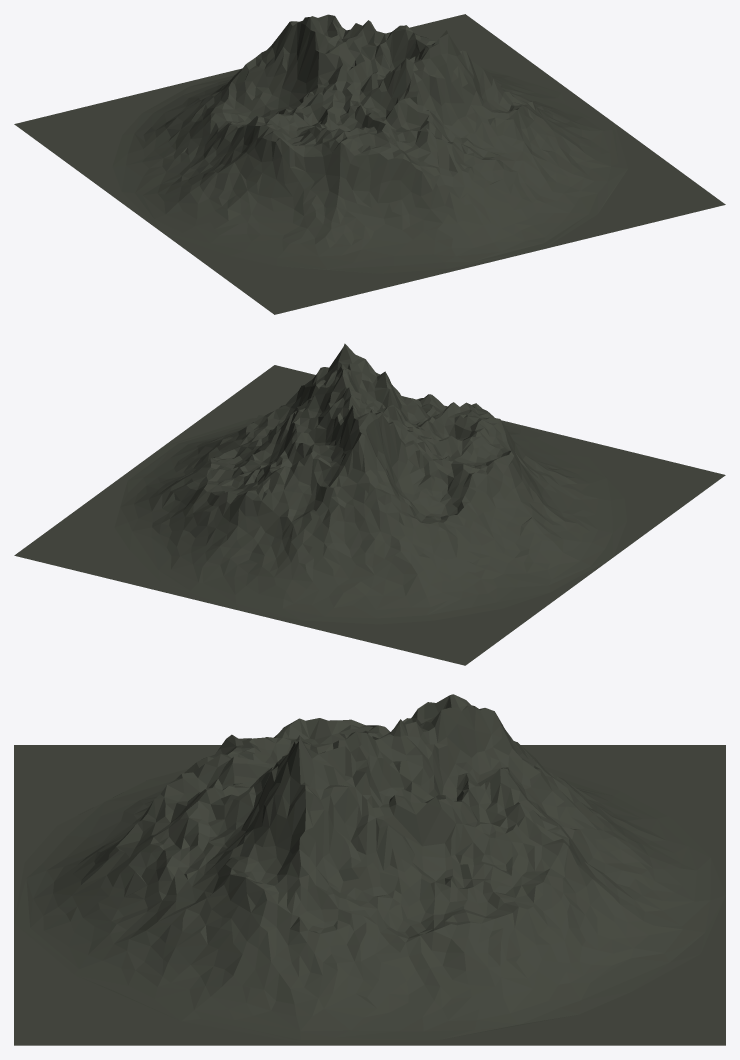
File: Landscape.002.fbx
3 renders of one model, top to bottom at view 1: azimuth 30°, elevation 25°; view 2: azimuth 150°, elevation 25°; view 3: azimuth 270°, elevation 25°, orthographic. The views are drawn at different scales.
Visible parts, largest first — view 1: Landscape.002; view 2: Landscape.002; view 3: Landscape.002.
Boxes of the visible parts, <box> form: Landscape.002: <box>14,14,725,314</box>; Landscape.002: <box>14,343,725,665</box>; Landscape.002: <box>14,694,725,1045</box>.
Bounding box in the file's own units: 200 × 59.66 × 200.
